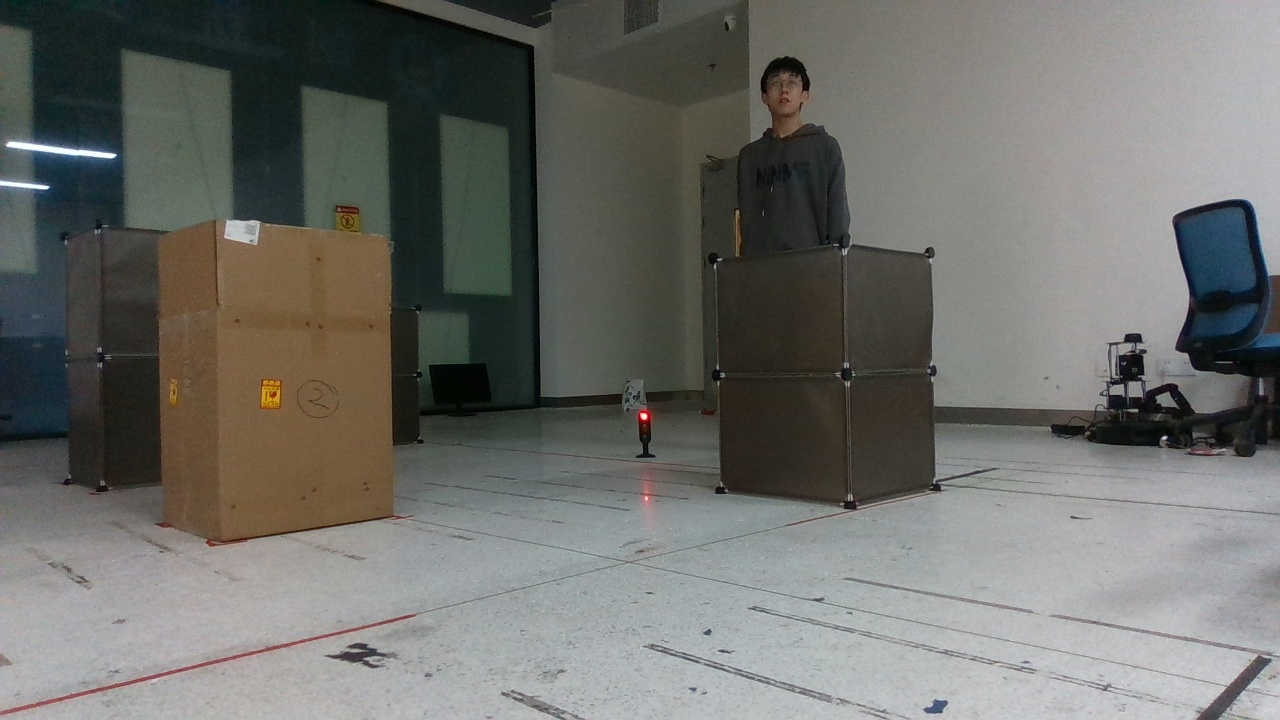red_light: (629, 399, 660, 464)
